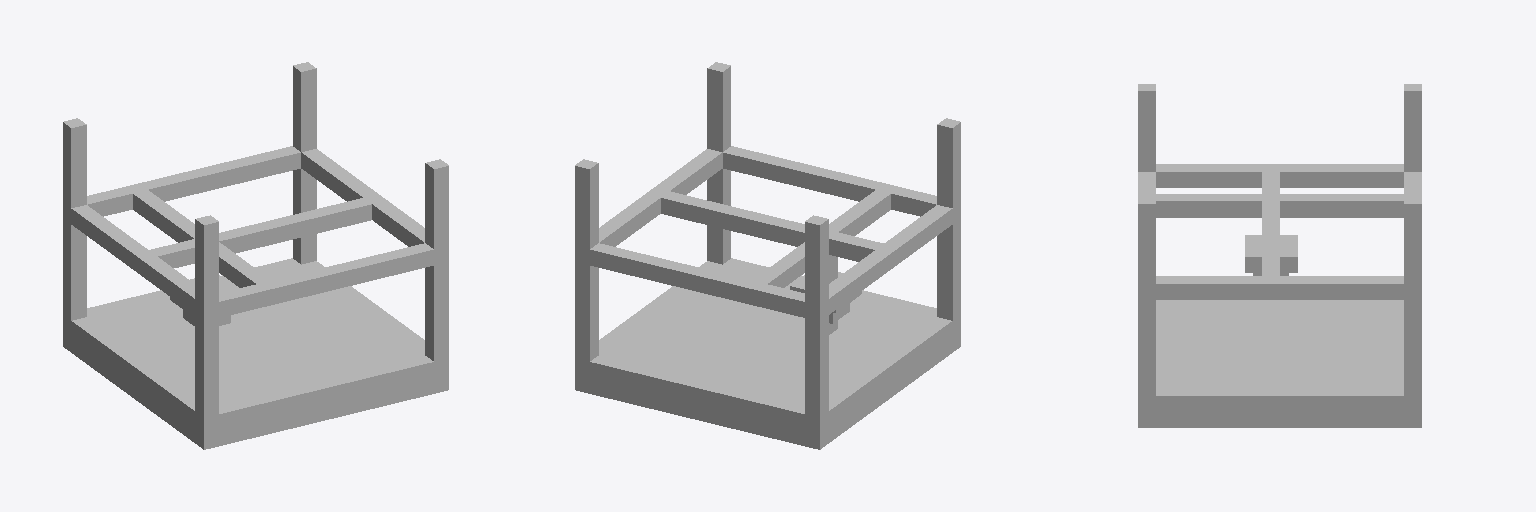
Rendered from panel_creator.obj.
The picture shows the model from 3 angles: view 1: azimuth 30°, elevation 25°; view 2: azimuth 150°, elevation 25°; view 3: azimuth 270°, elevation 25°; orthographic projection.
Parts seen in each view (by area): view 1: panel_creator; view 2: panel_creator; view 3: panel_creator.
Part boxes in pixels (x1,y1,x2,y2): panel_creator: (63, 62, 448, 449); panel_creator: (575, 62, 960, 449); panel_creator: (1138, 84, 1421, 427).
Bounding box in the file's own units: 1 × 0.875 × 1.